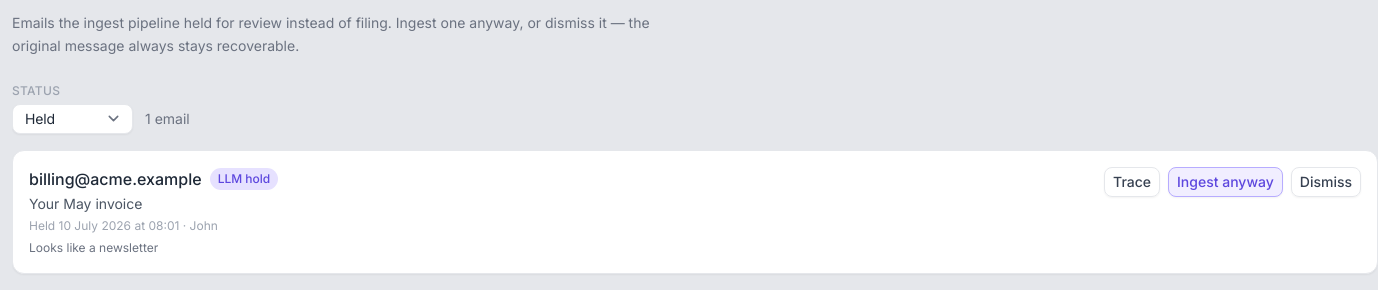
Test: HeldEmailsView › dismiss removes the row from the held filter
Click the button with test id "held-email-dismiss".
click(1326, 182)  # box [1291,166,1361,196]
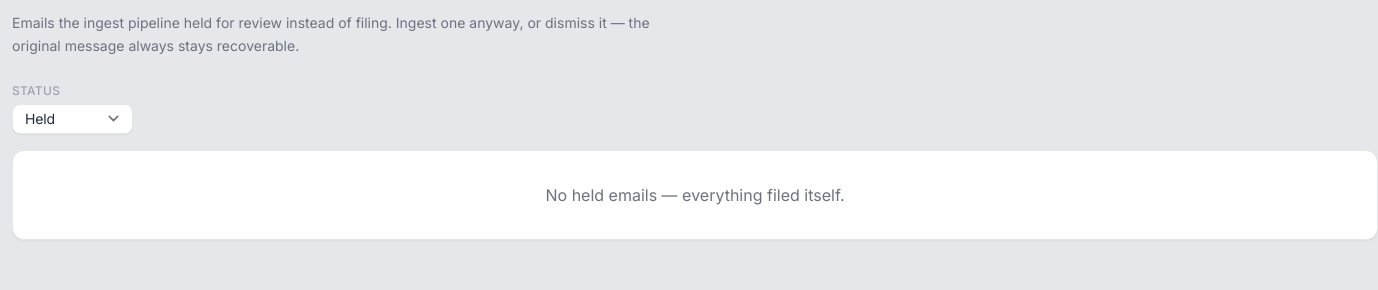
Now the text "No held emails — everything filed itself." is shown, box [12,150,1377,240]
